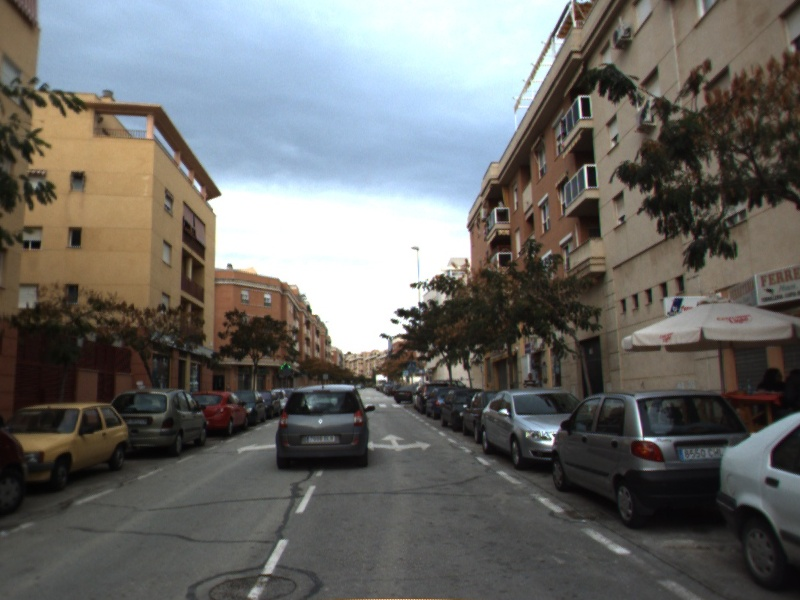STRAIGHT_LEFT_RIGHT: (368, 431, 434, 453)
